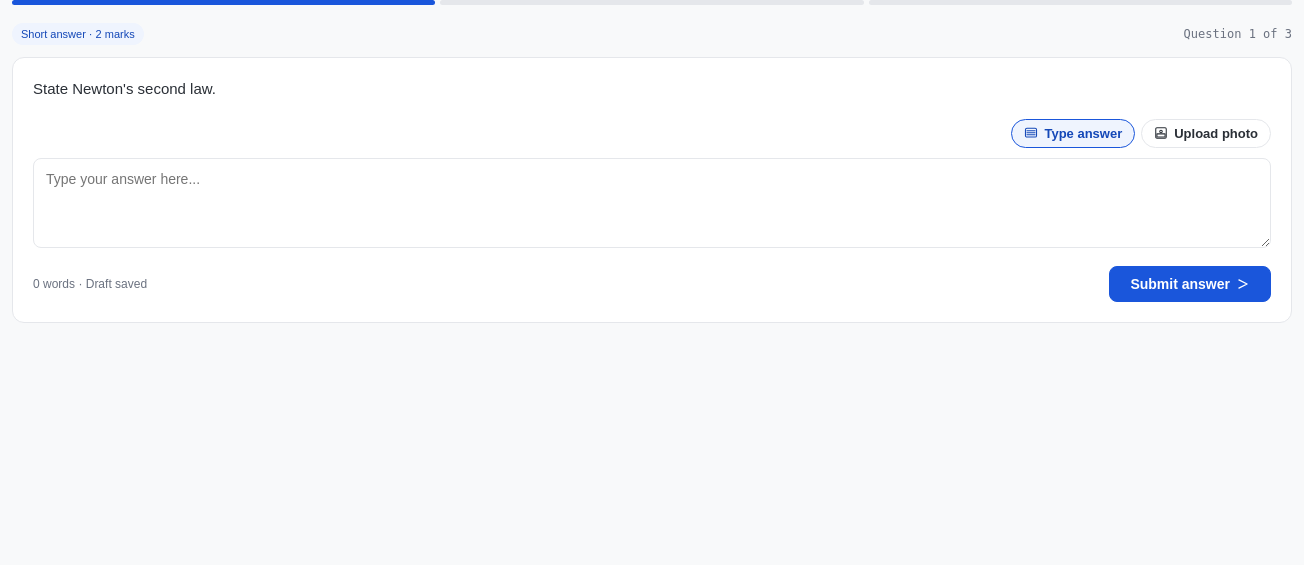
short answers, drafts and self-marking › clears the draft once the answer is graded
Type "F = ma" into the text box with placeholder "Type your answer here...". click: (652, 202)
box: [33,158,1271,248]
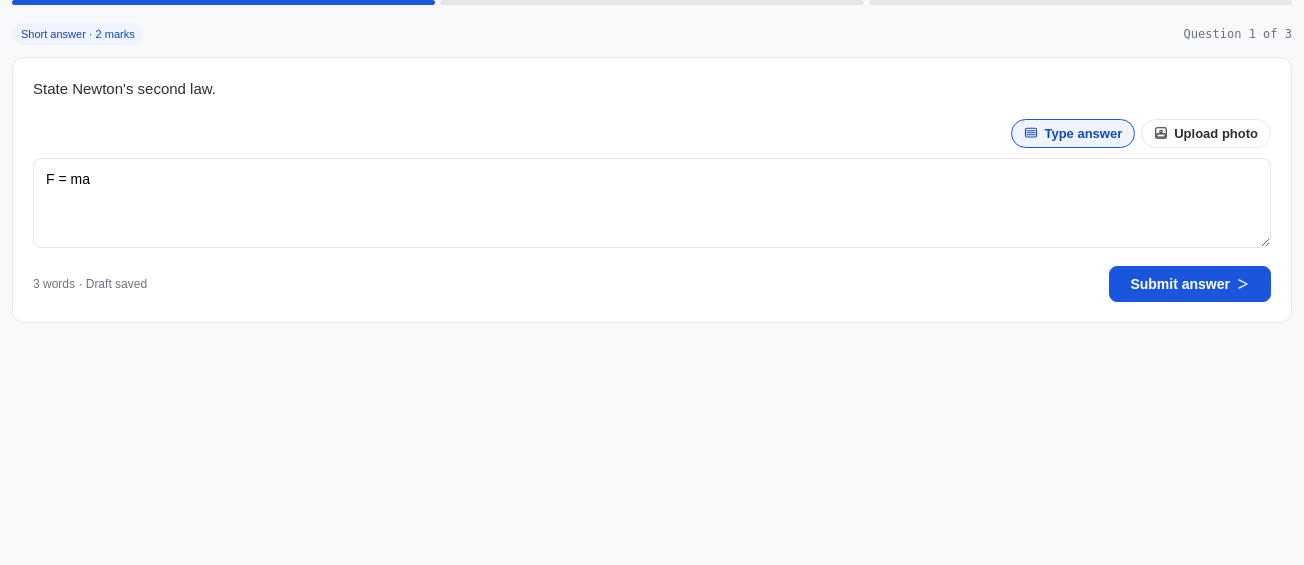
Click the button "Submit answer". click: (1190, 284)
box: [1109,266,1271,302]
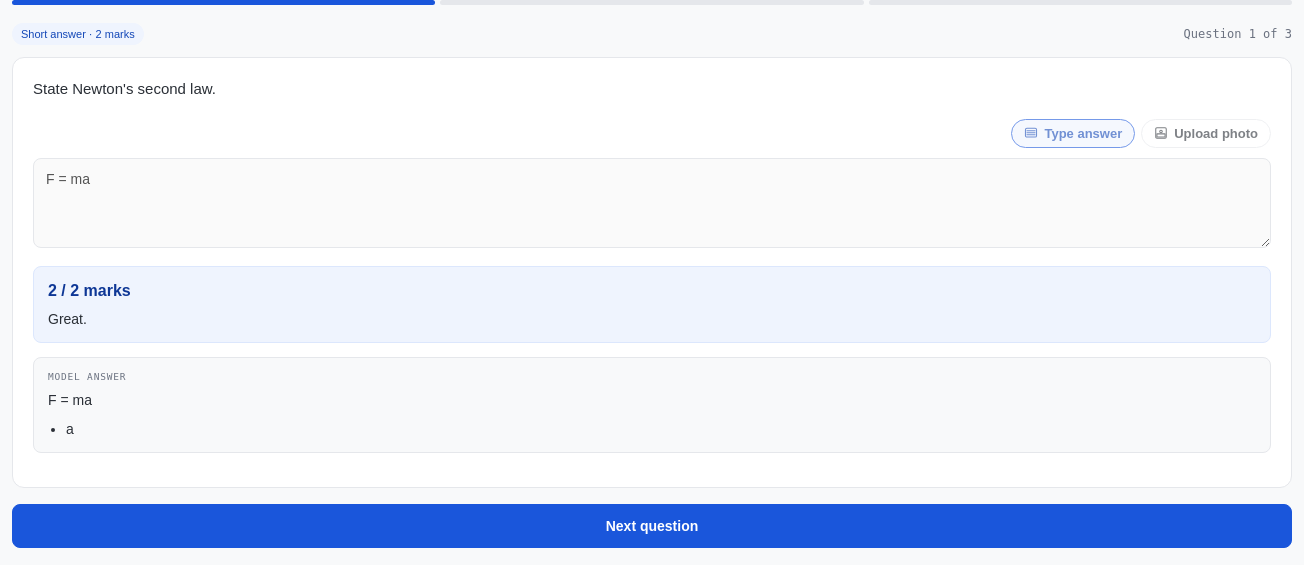
Check: the text "Great." is shown, box [48,310,87,326]
Check: the text "2 / 2 marks" is shown, box [48,282,131,298]
